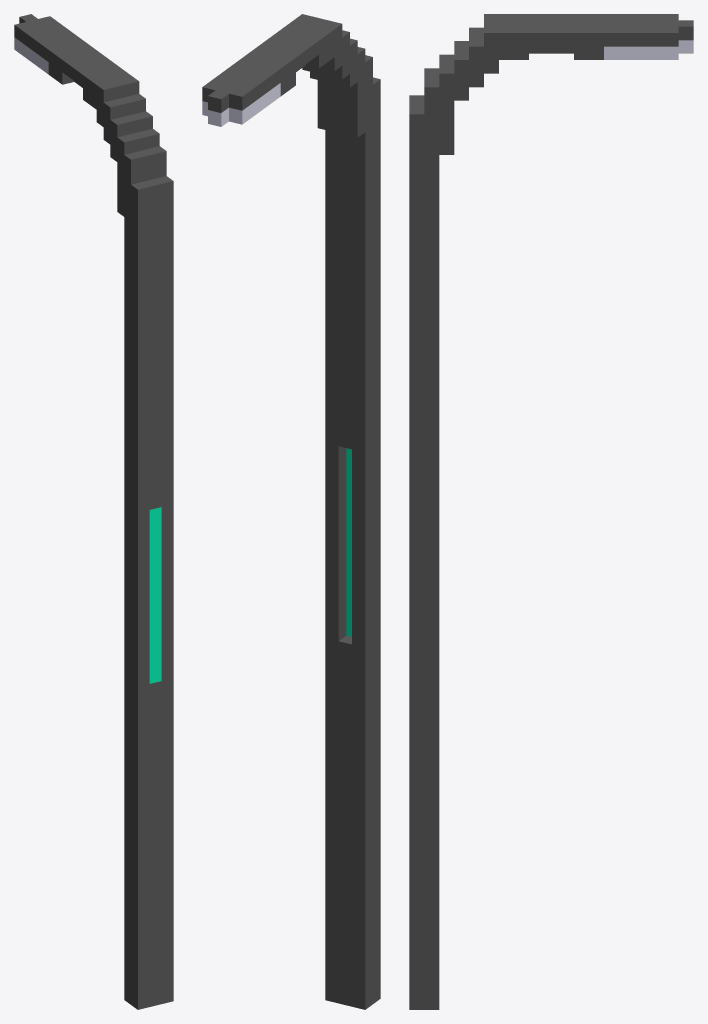
File: MapFinalV1-19.obj
3 views of the same model, side by side, from view 1: azimuth 30°, elevation 25°; view 2: azimuth 150°, elevation 25°; view 3: azimuth 270°, elevation 25° (orthographic). The views are drawn at different scales.
Size of the model in its own units: 0.3 by 7.2 by 1.9.
1 material, 1 textured.
